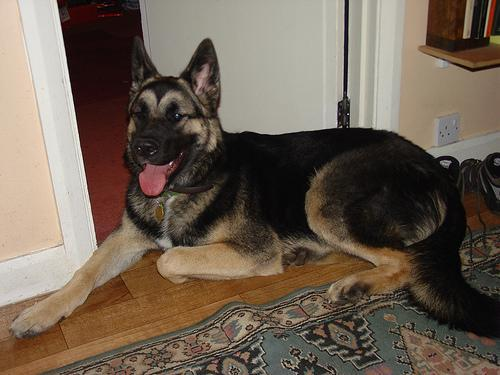German_shepherd: (9, 35, 499, 343)
